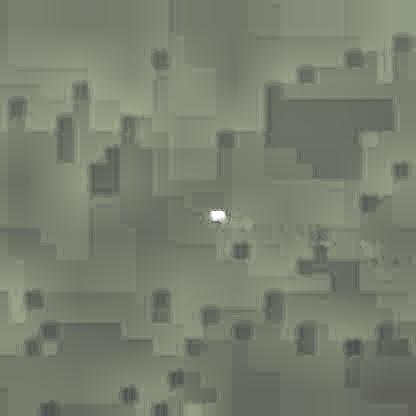golfball: (208, 206, 224, 221)
